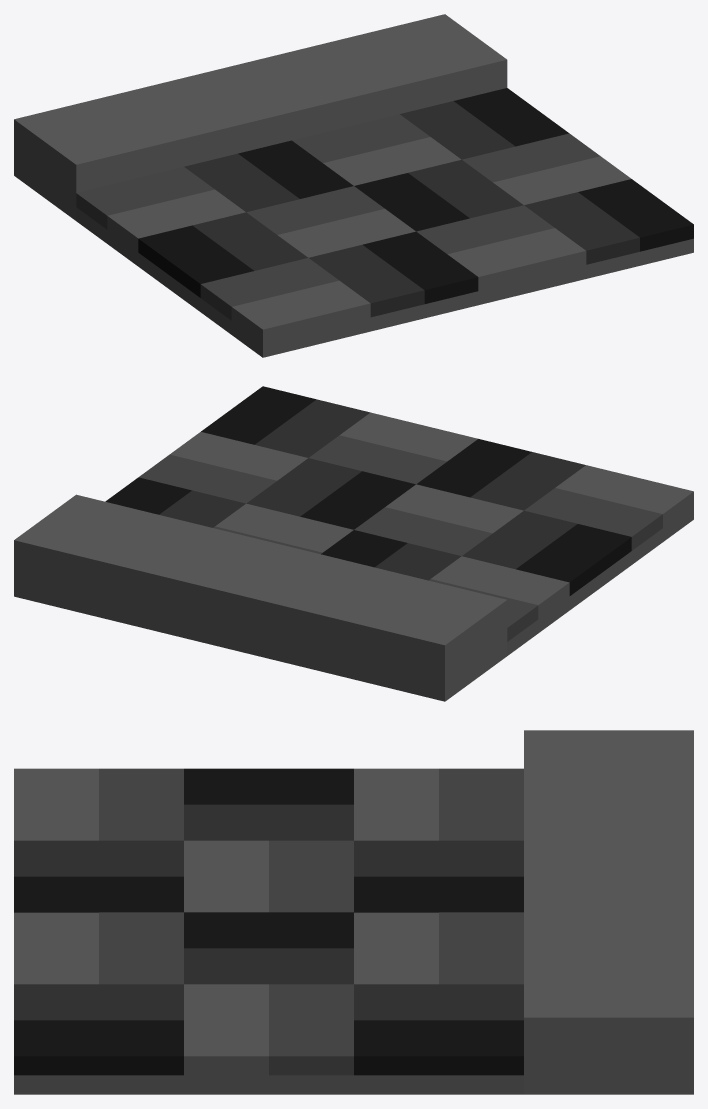
Rendered from brick_ground2.obj.
3 views of the same model, one above another, from view 1: azimuth 30°, elevation 25°; view 2: azimuth 150°, elevation 25°; view 3: azimuth 270°, elevation 25° (orthographic). The views are drawn at different scales.
Bounding box in the file's own units: 3.2 × 0.4 × 3.2.
1 material, 1 textured.
